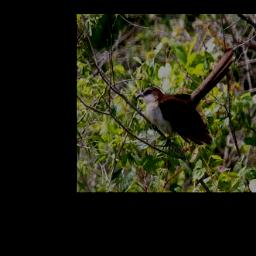Cuckoo: (135, 45, 213, 150)
